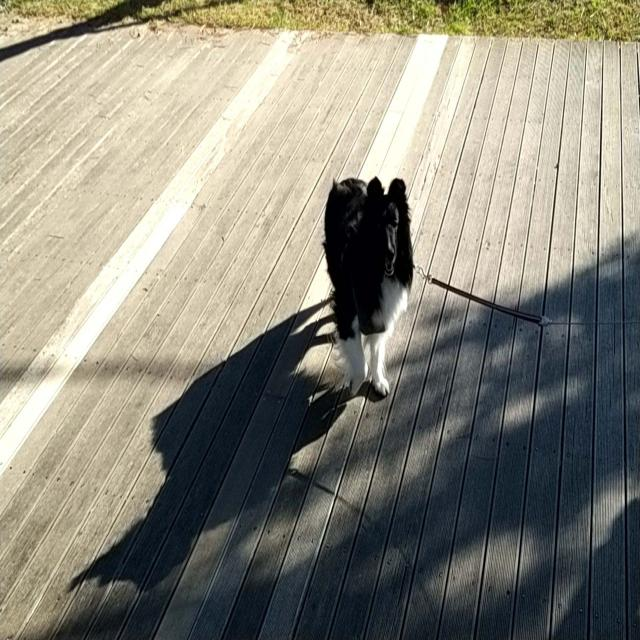Dog: (321, 177, 415, 397)
